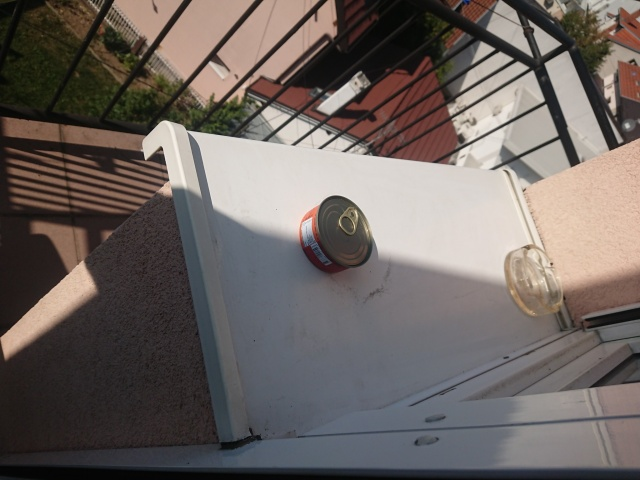Gavrilovic Pork Liver Pate 100g: (297, 192, 375, 276)
